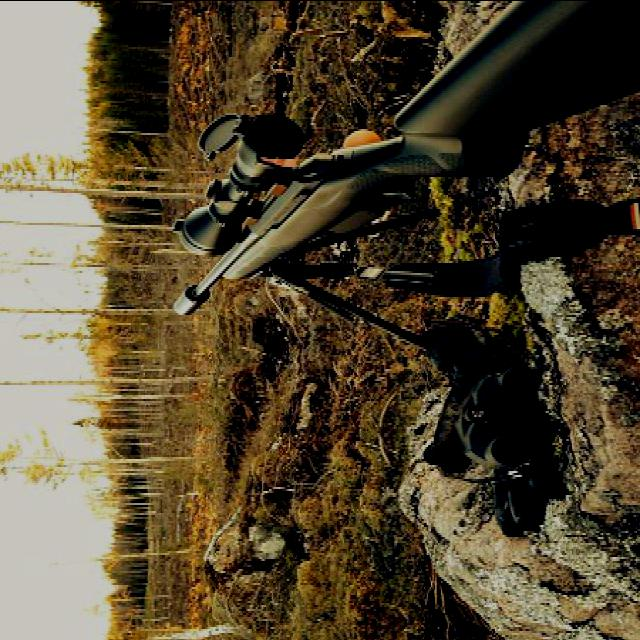long weapon: (160, 2, 636, 332)
